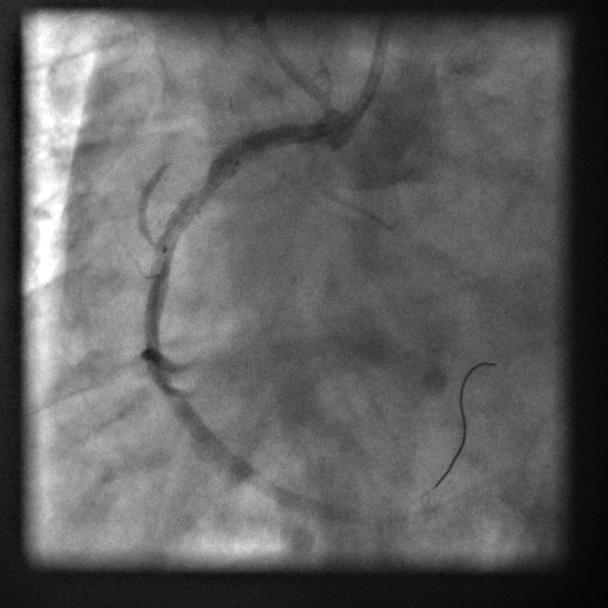Stenosis: (190, 163, 228, 207)
